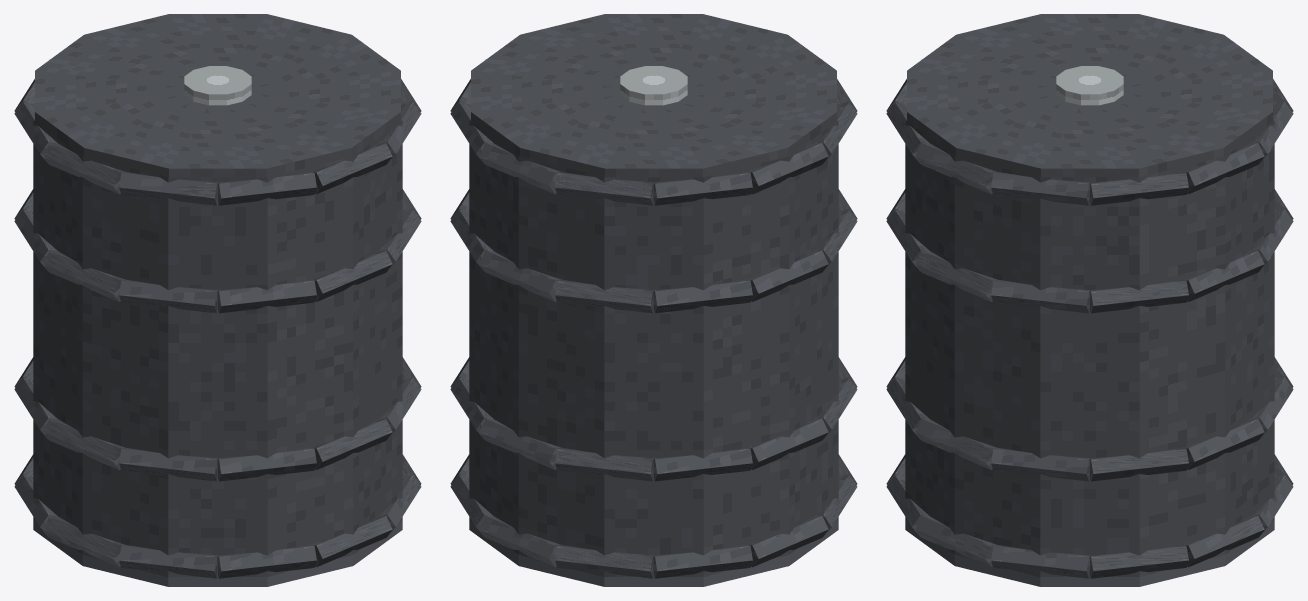
File: 30gal_drum.glb
The picture shows the model from 3 angles, left to right: view 1: azimuth 30°, elevation 25°; view 2: azimuth 150°, elevation 25°; view 3: azimuth 270°, elevation 25°; orthographic projection.
Parts seen in each view (by area): view 1: block_walls, block_lid, block_hoop3 (×4), block_hoop4 (×4), block_hoop2 (×4), block_hoop5 (×4), block_hoop1 (×4), block_hoop6 (×4), block_bung, block_foot; view 2: block_walls, block_lid, block_hoop7 (×4), block_hoop8 (×4), block_hoop6 (×4), block_hoop9 (×4), block_hoop5 (×4), block_hoop10 (×4), block_bung, block_foot; view 3: block_walls, block_lid, block_hoop0 (×4), block_hoop11 (×4), block_hoop1 (×4), block_hoop10 (×4), block_hoop2 (×4), block_hoop9 (×4), block_bung, block_foot.
Boxes of the visible parts, box(x1,y1,x2,y2) form: block_walls: box(33, 120, 402, 586); block_lid: box(35, 14, 400, 177); block_hoop3 (×4): box(218, 172, 316, 578); block_hoop4 (×4): box(119, 172, 217, 578); block_hoop2 (×4): box(311, 143, 392, 567); block_hoop5 (×4): box(43, 143, 124, 567); block_hoop1 (×4): box(378, 102, 421, 536); block_hoop6 (×4): box(14, 102, 57, 536); block_bung: box(184, 66, 251, 105); block_foot: box(33, 517, 402, 586); block_walls: box(469, 120, 838, 586); block_lid: box(471, 14, 836, 177); block_hoop7 (×4): box(654, 172, 752, 578); block_hoop8 (×4): box(555, 172, 653, 578); block_hoop6 (×4): box(747, 143, 828, 567); block_hoop9 (×4): box(479, 143, 560, 567); block_hoop5 (×4): box(814, 102, 857, 536); block_hoop10 (×4): box(450, 102, 493, 536); block_bung: box(620, 66, 687, 105); block_foot: box(469, 517, 838, 586); block_walls: box(905, 120, 1274, 586); block_lid: box(907, 14, 1272, 177); block_hoop0 (×4): box(991, 172, 1089, 578); block_hoop11 (×4): box(1090, 172, 1188, 578); block_hoop1 (×4): box(915, 143, 996, 567); block_hoop10 (×4): box(1183, 143, 1264, 567); block_hoop2 (×4): box(886, 102, 929, 536); block_hoop9 (×4): box(1250, 102, 1293, 536); block_bung: box(1056, 66, 1123, 105); block_foot: box(905, 517, 1274, 586).
Size of the model in its own units: 0.5849 by 0.6793 by 0.5849.
Materials: 2 (2 with a texture image).
